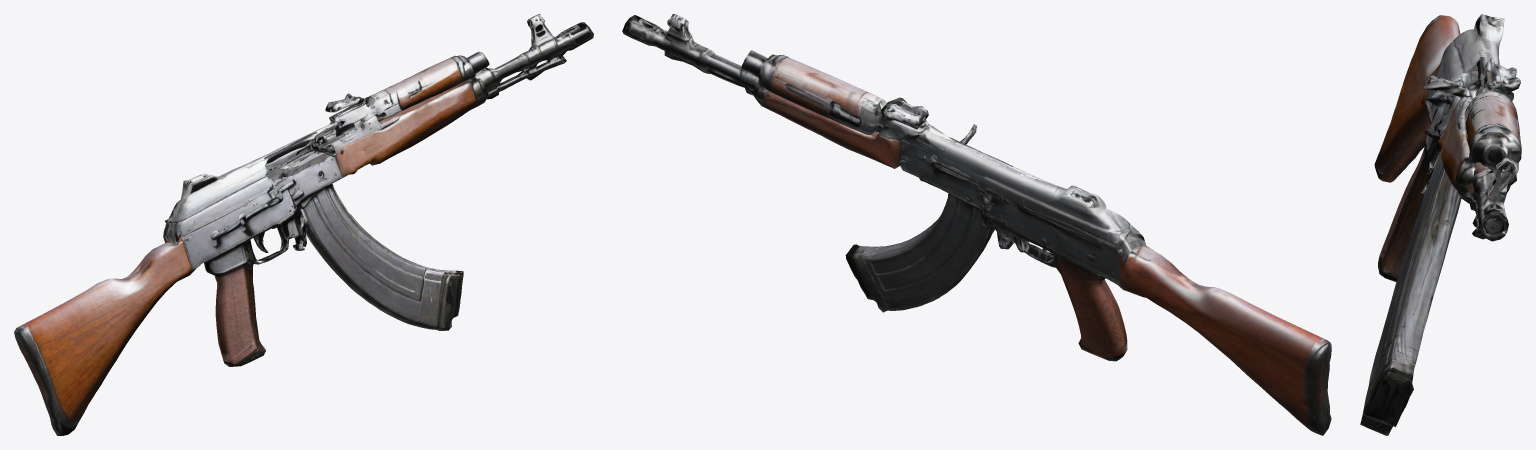
The model's file is une_ak47_0417072848_texture.obj.
3 renders of one model, left to right at view 1: azimuth 30°, elevation 25°; view 2: azimuth 150°, elevation 25°; view 3: azimuth 270°, elevation 25°, orthographic. The views are drawn at different scales.
Visible parts, largest first — view 1: une_ak47_0417072848_texture; view 2: une_ak47_0417072848_texture; view 3: une_ak47_0417072848_texture.
Part boxes in pixels (<box>): une_ak47_0417072848_texture: <box>14,14,593,435</box>; une_ak47_0417072848_texture: <box>622,14,1331,435</box>; une_ak47_0417072848_texture: <box>1360,14,1521,435</box>.
Size of the model in its own units: 2 by 0.8604 by 0.3184.
1 material, 1 textured.
